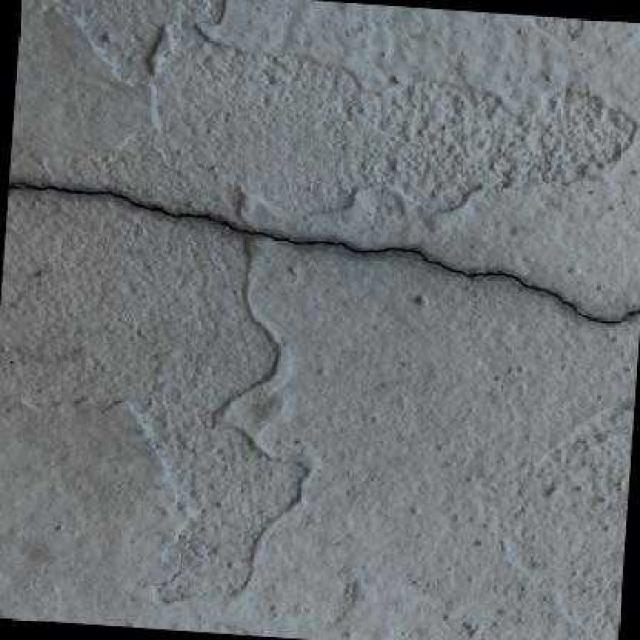D00: (14, 182, 640, 323), (9, 185, 26, 189)
